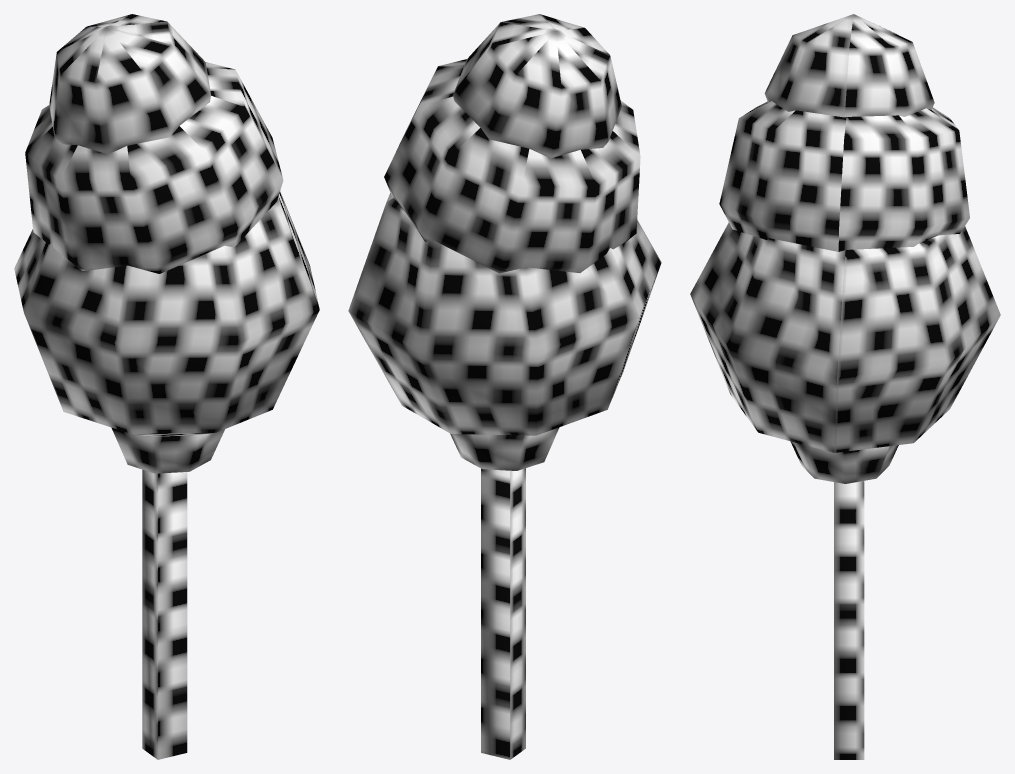
Rendered from Arbol_04.obj.
The picture shows the model from 3 angles, left to right: view 1: azimuth 30°, elevation 25°; view 2: azimuth 150°, elevation 25°; view 3: azimuth 270°, elevation 25°; orthographic projection. The views are drawn at different scales.
Parts seen in each view (by area): view 1: Arbol_04; view 2: Arbol_04; view 3: Arbol_04.
Boxes of the visible parts, bbox=[...] form: Arbol_04: bbox=[14, 14, 319, 759]; Arbol_04: bbox=[348, 14, 661, 759]; Arbol_04: bbox=[690, 14, 1000, 759].
Bounding box in the file's own units: 12.25 × 31.03 × 12.25.
1 material, 1 textured.
